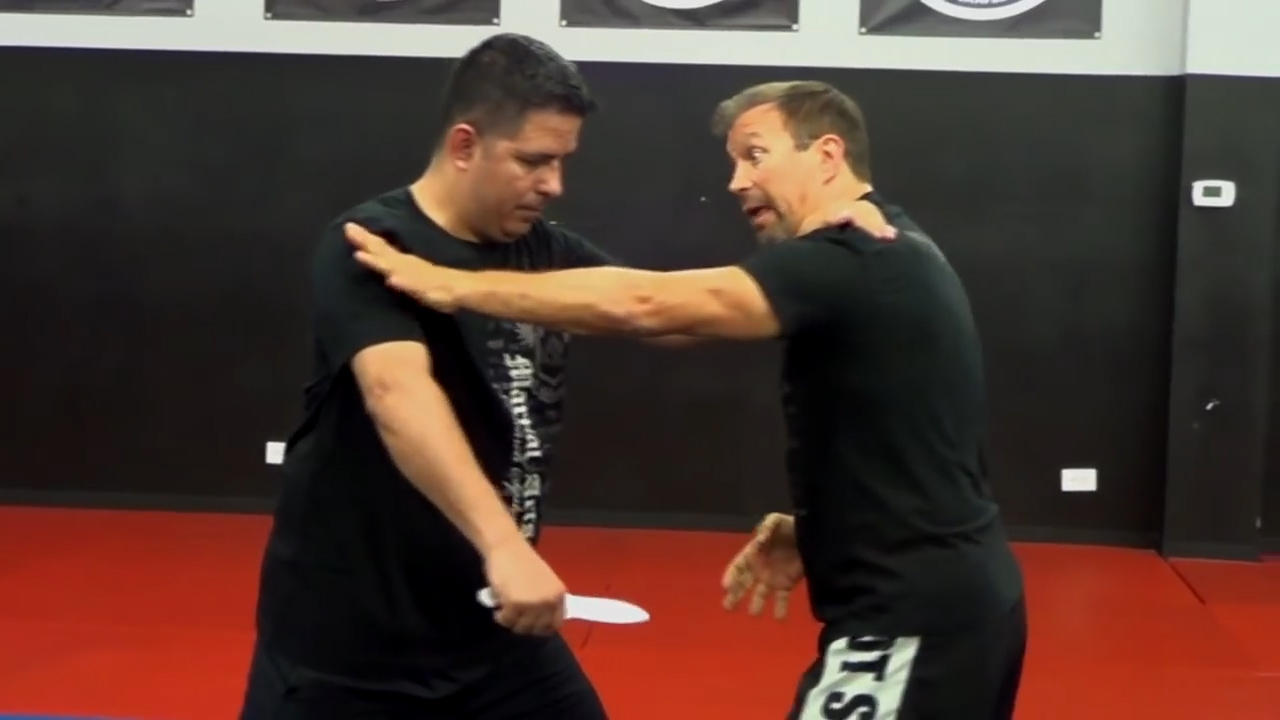knife: (469, 577, 659, 636)
